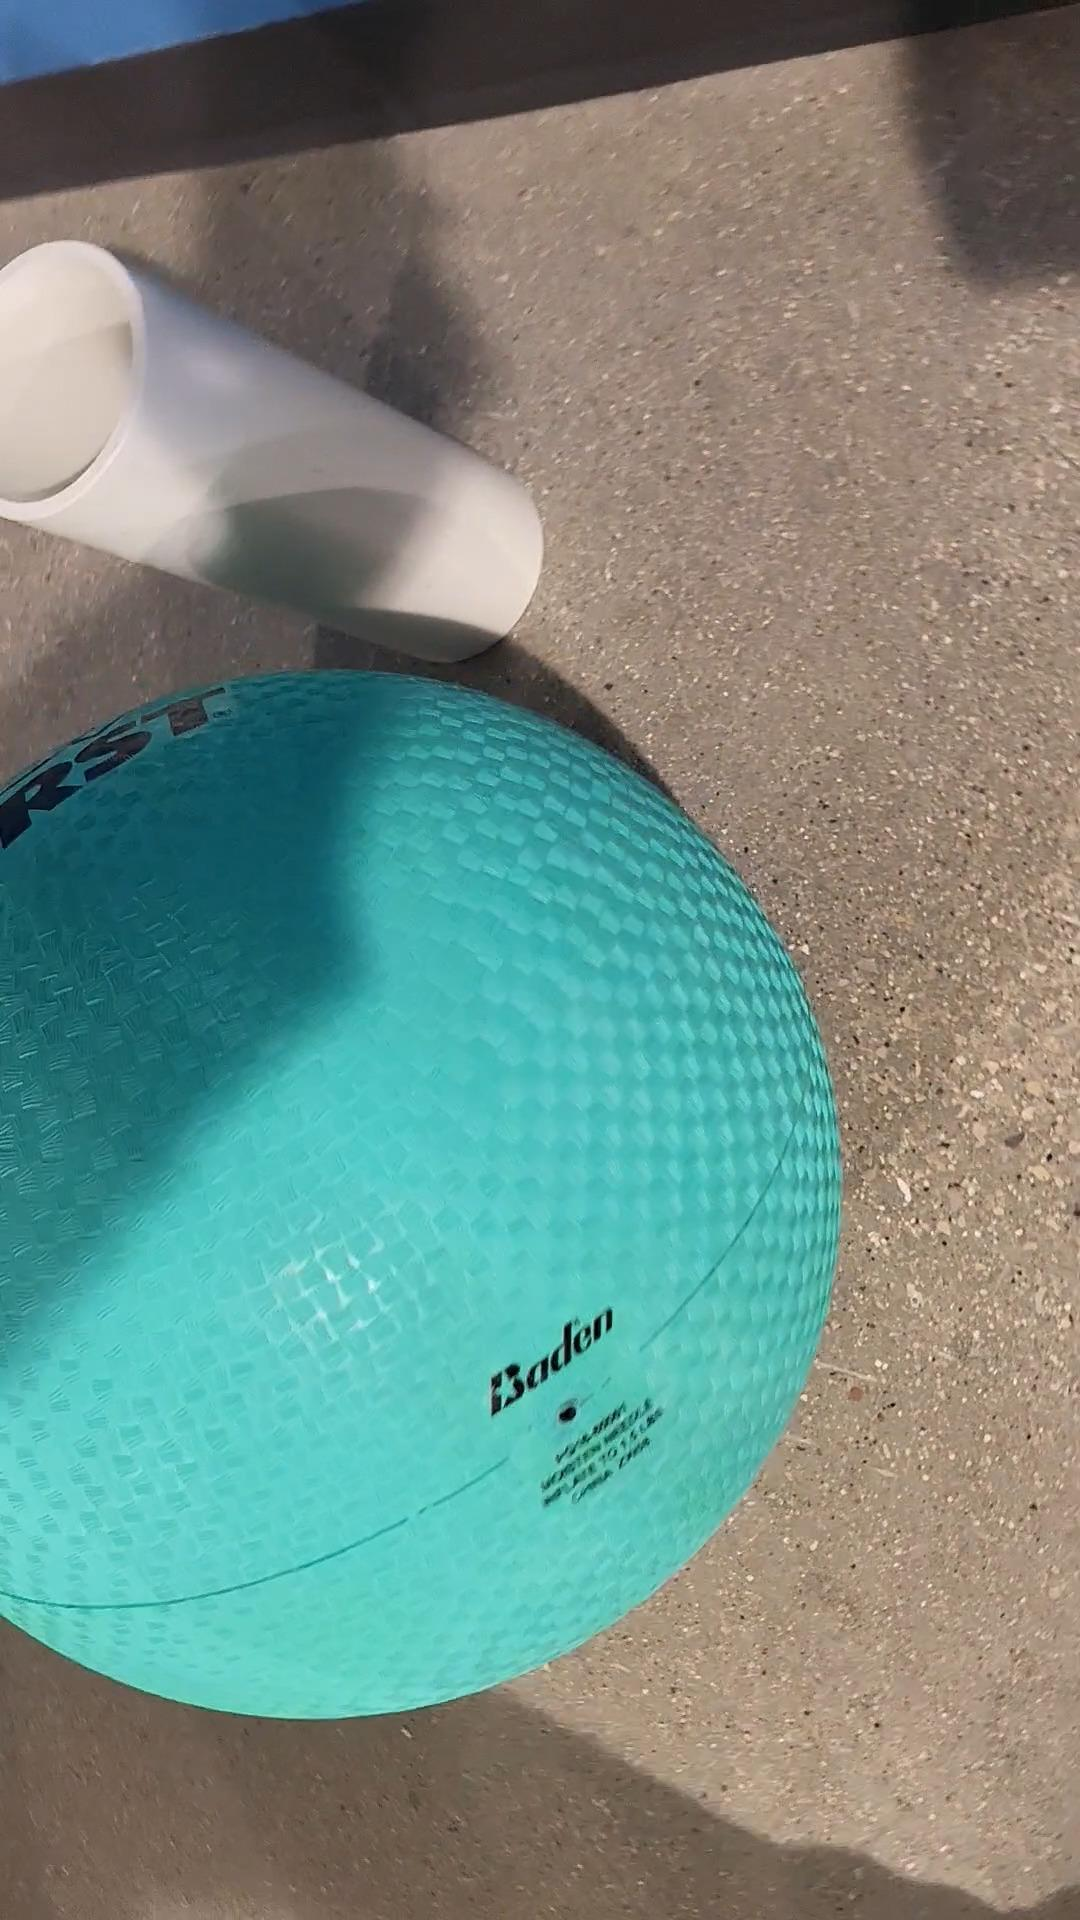algae: (0, 657, 847, 1743)
coral: (0, 233, 556, 674)
